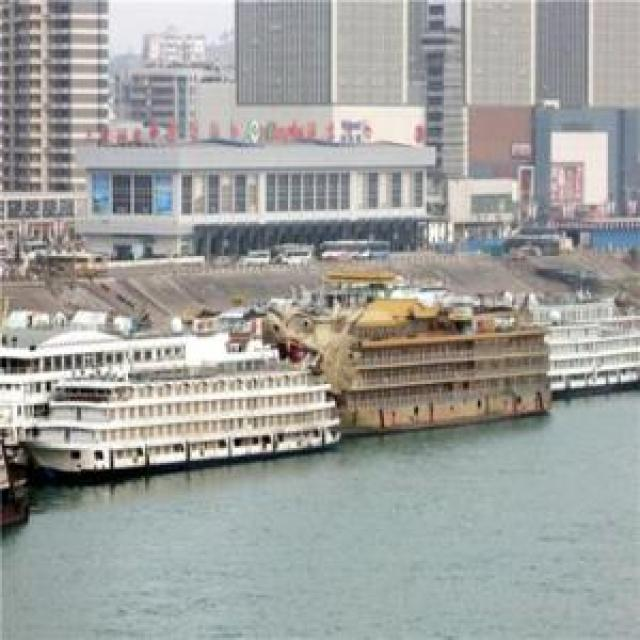passenger ship: (301, 300, 554, 428), (30, 372, 338, 472), (531, 314, 640, 394)
